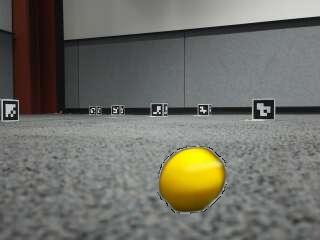lemon: (160, 147, 225, 211)
